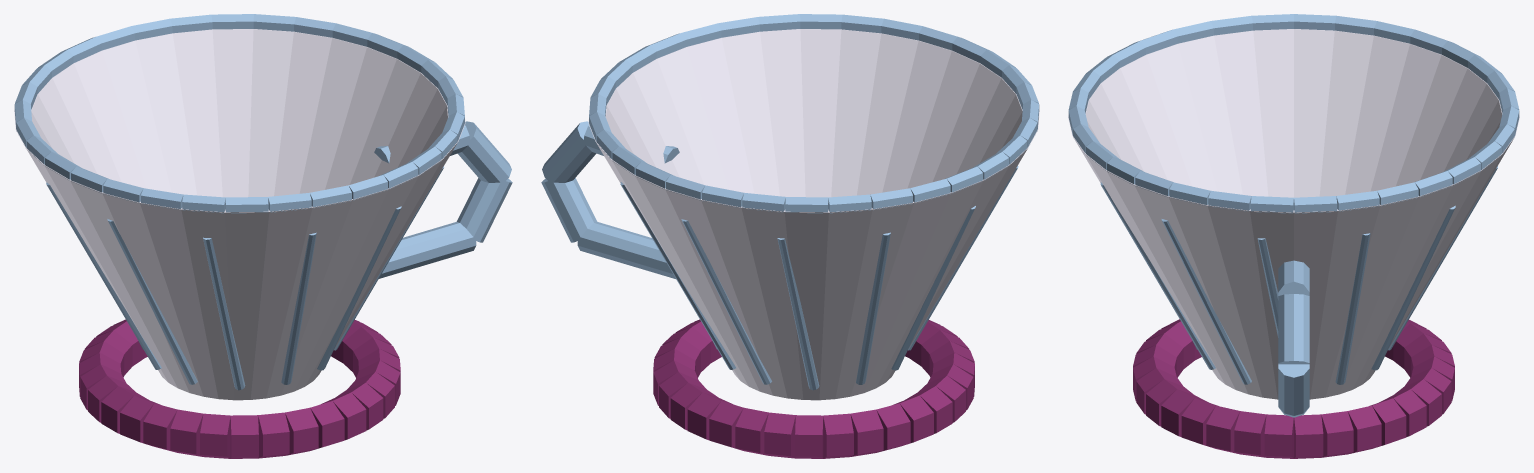
File: dripper.glb
3 views of the same model, side by side, from view 1: azimuth 30°, elevation 25°; view 2: azimuth 150°, elevation 25°; view 3: azimuth 270°, elevation 25° (orthographic).
Visible parts, largest first — view 1: conical wall, handle3, handle2, handle1, flute40, flute30, flute50, support foot9, support foot11, support foot12, support foot10, support foot8 (+40 smaller); view 2: conical wall, handle3, handle2, handle1, flute80, flute70, flute90, support foot22, support foot20, support foot19, support foot21, support foot23 (+40 smaller); view 3: conical wall, handle1, handle2, flute110, flute10, support foot1, support foot30, support foot0, support foot31, support foot2, support foot29, flute100 (+42 smaller).
Part boxes in pixels (box(x1,y1,x2,y2)): conical wall: box(14, 29, 465, 400); handle3: box(379, 221, 476, 278); handle2: box(457, 178, 512, 242); handle1: box(457, 121, 511, 183); flute40: box(203, 237, 245, 390); flute30: box(281, 232, 316, 384); flute50: box(107, 219, 197, 384); support foot9: box(258, 412, 289, 458); support foot11: box(200, 413, 230, 458); support foot12: box(170, 409, 203, 456); support foot10: box(230, 415, 258, 458); support foot8: box(285, 407, 318, 455); conical wall: box(588, 29, 1039, 400); handle3: box(577, 221, 675, 278); handle2: box(541, 178, 596, 242); handle1: box(542, 121, 596, 183); flute80: box(777, 238, 819, 390); flute70: box(856, 232, 890, 384); flute90: box(681, 219, 771, 384); support foot22: box(764, 412, 795, 458); support foot20: box(823, 413, 853, 458); support foot19: box(850, 409, 883, 456); support foot21: box(795, 415, 823, 458); support foot23: box(735, 407, 768, 455); conical wall: box(1068, 29, 1519, 399); handle1: box(1278, 294, 1309, 364); handle2: box(1278, 364, 1309, 415); flute110: box(1335, 233, 1370, 384); flute10: box(1161, 219, 1251, 384); support foot1: box(1234, 411, 1266, 457); support foot30: box(1321, 411, 1353, 457); support foot0: box(1264, 414, 1293, 458); support foot31: box(1294, 414, 1323, 458); support foot2: box(1206, 405, 1239, 454); support foot29: box(1348, 405, 1381, 454); flute100: box(1371, 205, 1455, 370).
Bounding box in the file's own units: 1.57 × 0.947 × 1.32.
